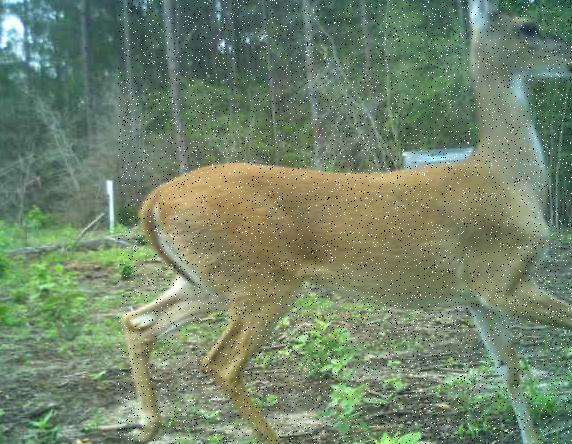Deer: (118, 0, 572, 444)
